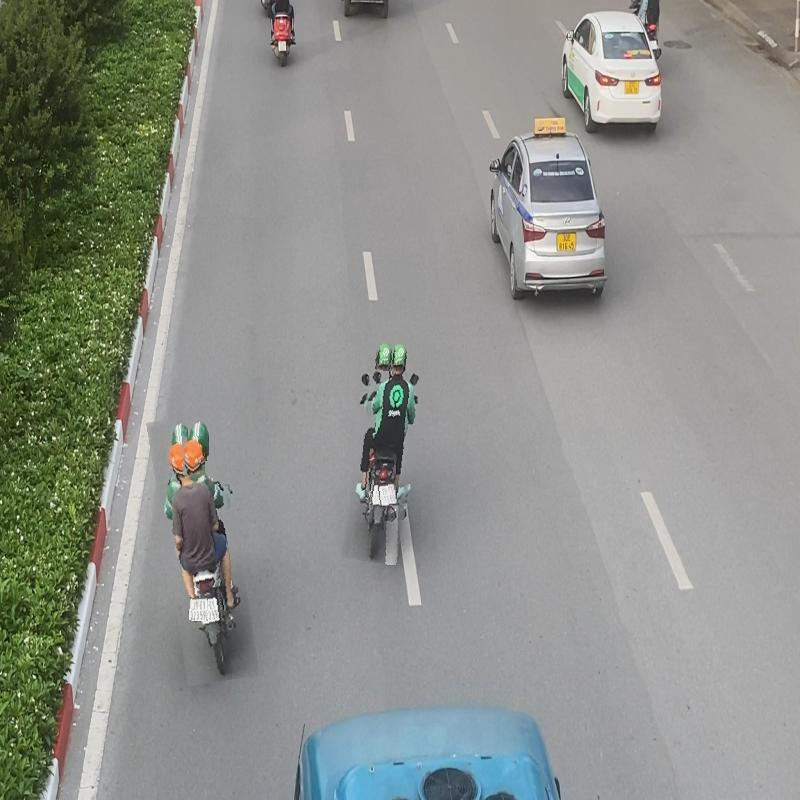helmet: (182, 437, 206, 475), (188, 420, 209, 461), (375, 340, 394, 370)
licenseplate: (378, 484, 398, 506), (190, 598, 208, 622)
motorcyclist: (156, 413, 249, 684), (350, 337, 422, 564)
